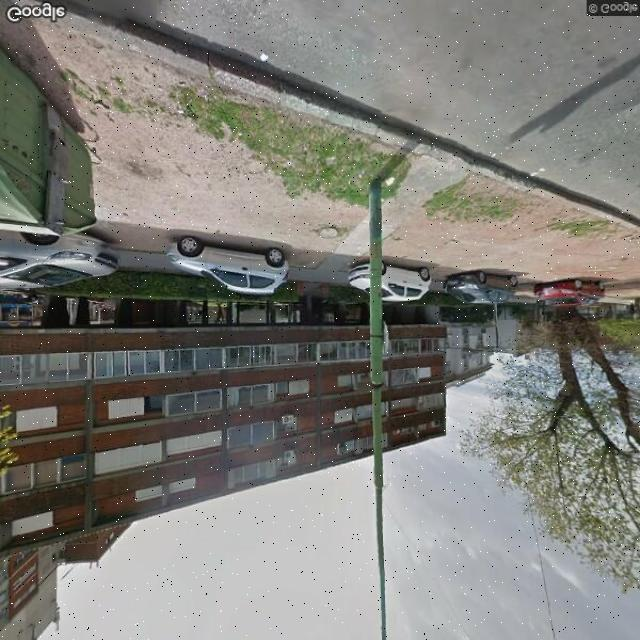garbage container: (2, 40, 114, 248)
